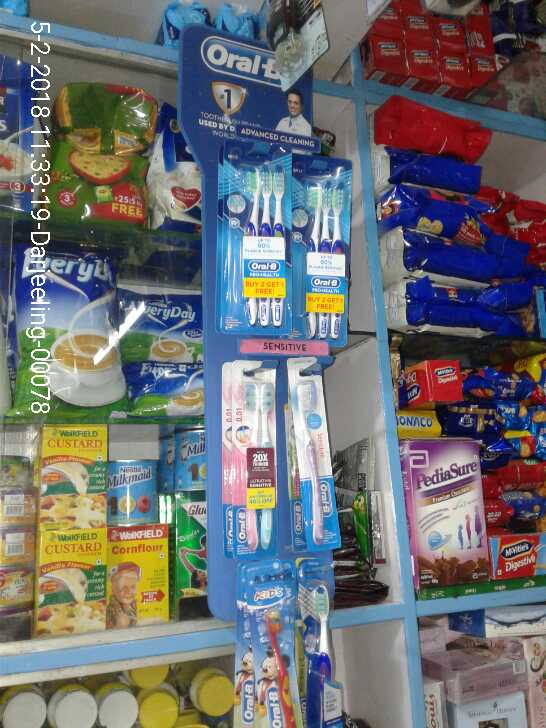oralb: (225, 136, 290, 332), (291, 152, 344, 342), (287, 357, 340, 545), (234, 357, 278, 557), (297, 558, 339, 728)
